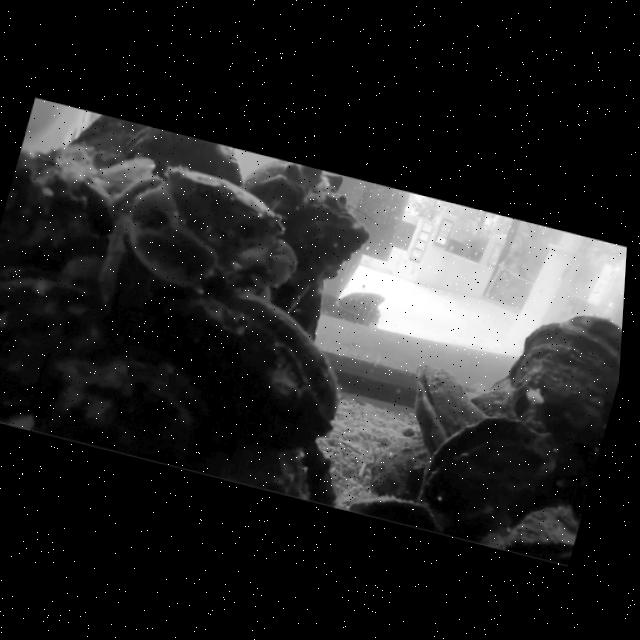Oyster-Closed: (508, 315, 622, 447), (244, 161, 369, 265), (98, 126, 245, 191), (499, 506, 578, 565)
Oyster-Indeterminate: (419, 417, 555, 541), (229, 296, 338, 436), (190, 415, 337, 512)
Oyster-Open: (414, 365, 486, 452)
